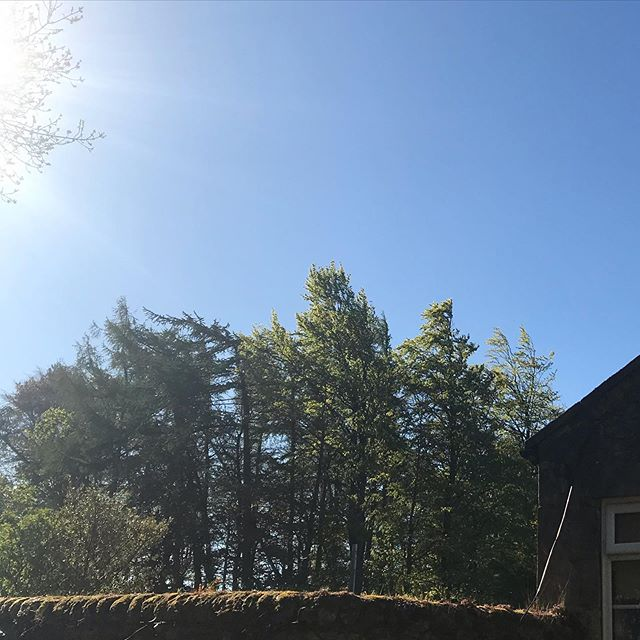building: (519, 350, 640, 640)
sky: (1, 1, 637, 348)
vegetation: (11, 313, 544, 585)
